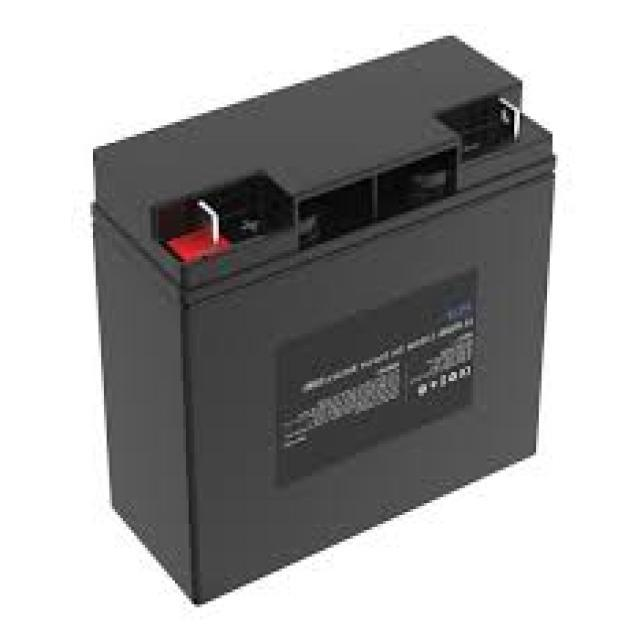battery: (87, 31, 559, 604)
